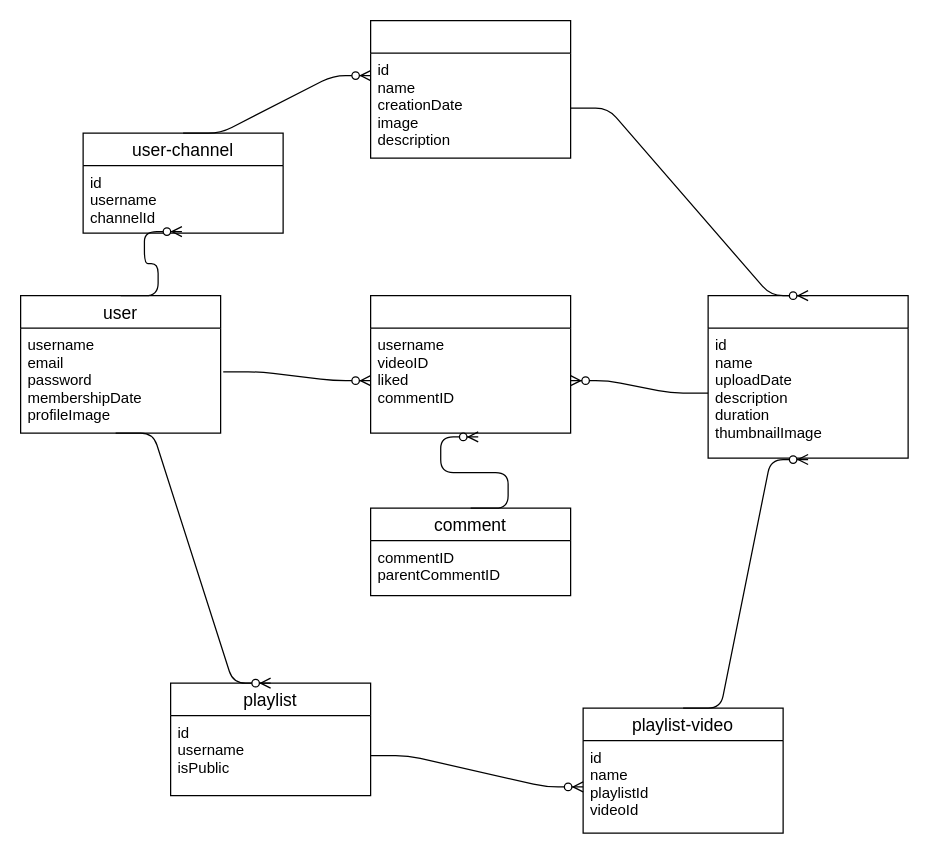
Image size: 929x854. Some labels were removed from this diagram. Each missing label, with the box of its shape:
channel: (369, 19, 571, 158)
video: (707, 294, 908, 458)
whatch: (369, 294, 571, 433)
